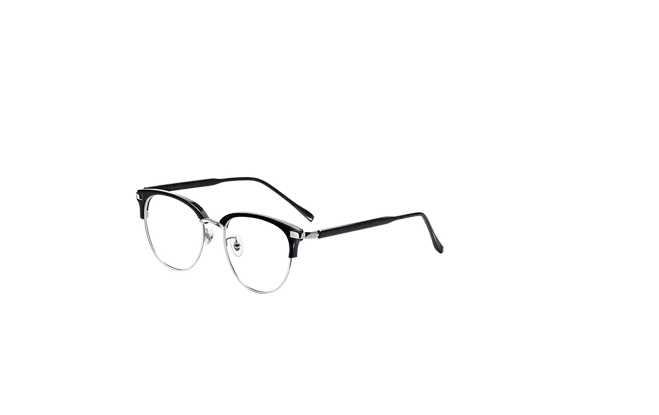glass: (127, 154, 463, 303)
